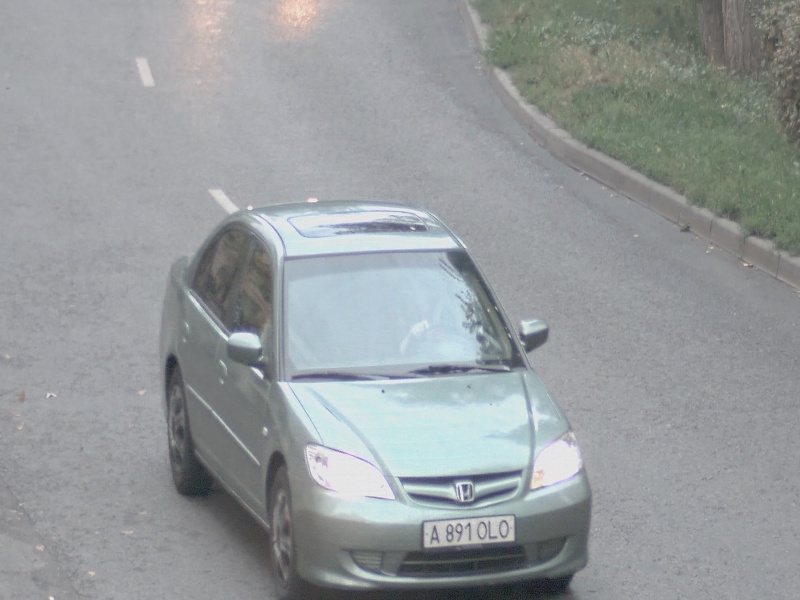plate: (422, 514, 516, 550)
